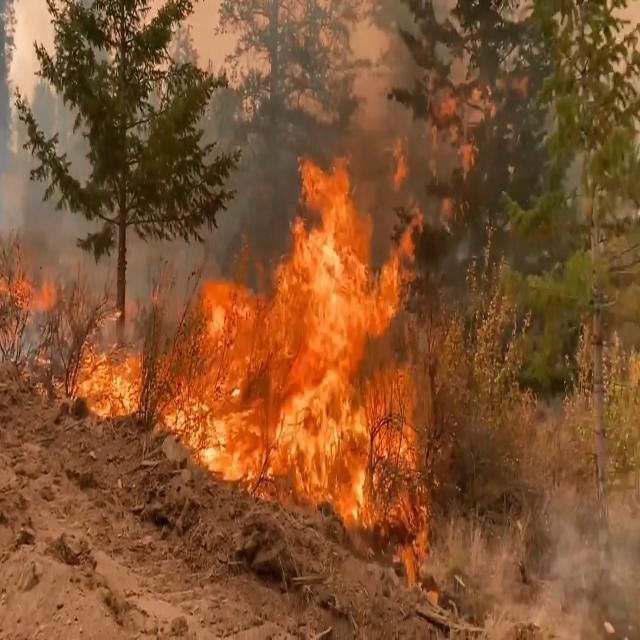Fire: (0, 94, 433, 582)
